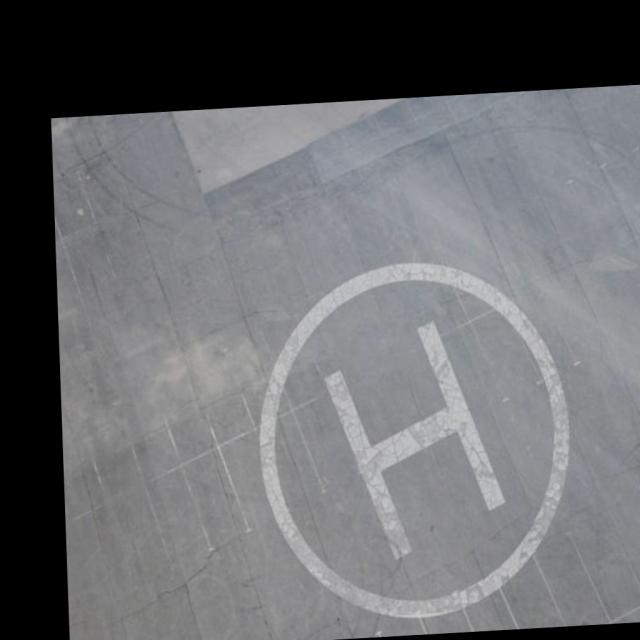helipad: (251, 256, 575, 622)
